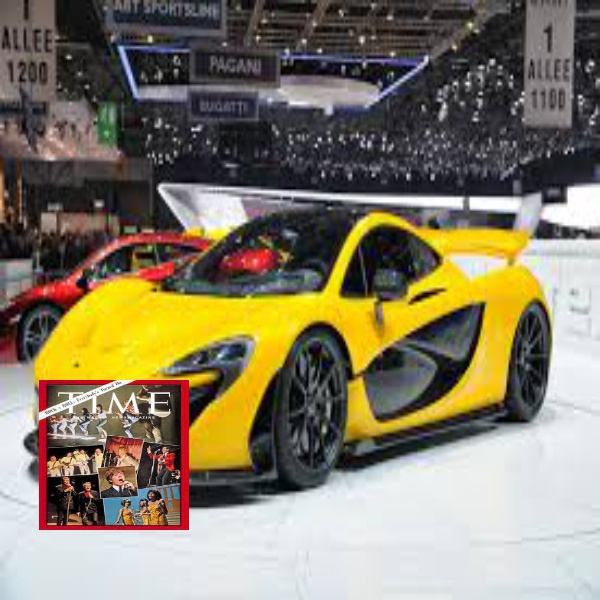time_cover: (28, 368, 193, 535)
